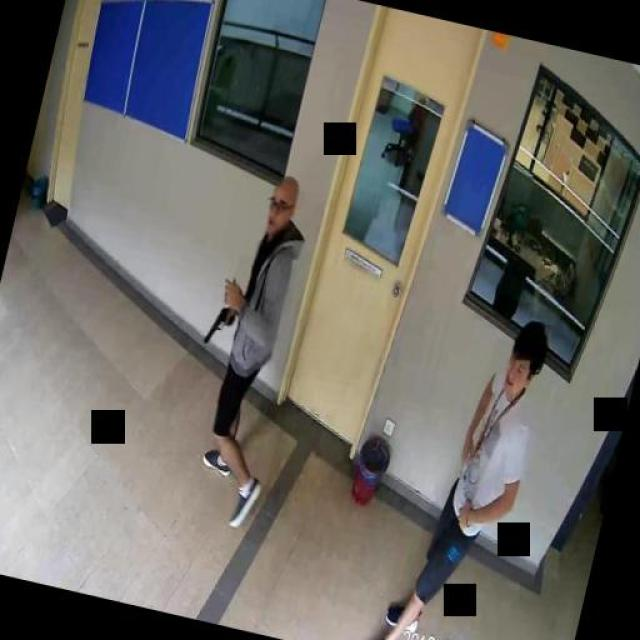gun: (203, 303, 235, 347)
